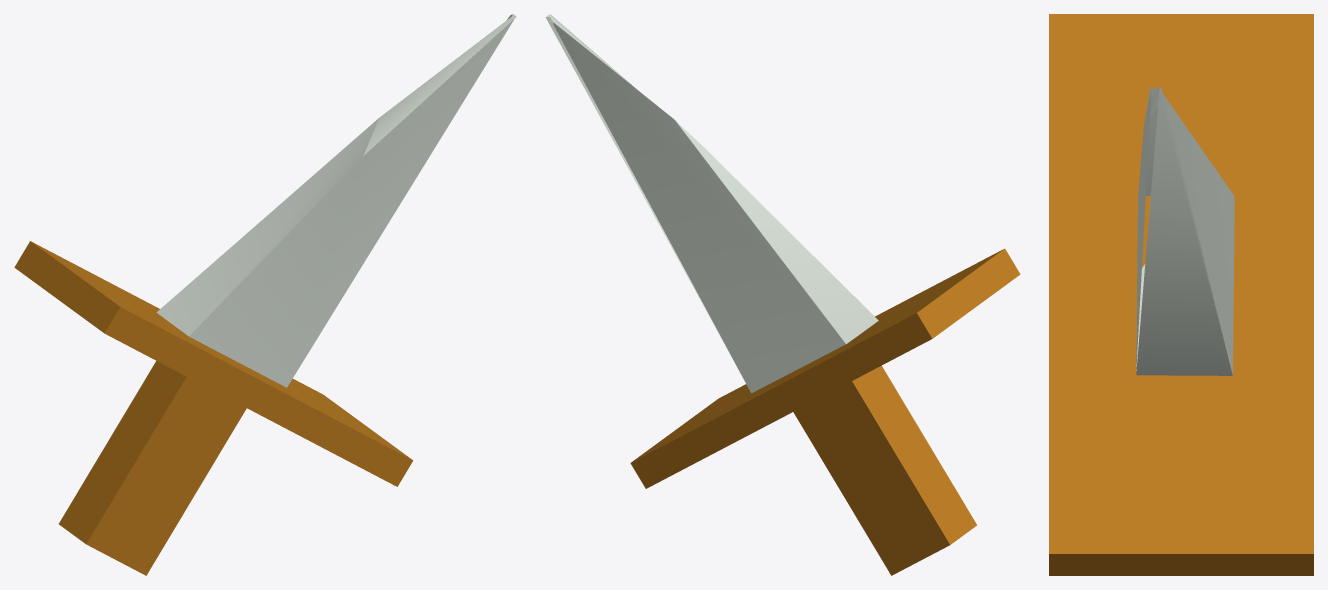
Rendered from Iron Sword.glb.
3 views of the same model, side by side, from view 1: azimuth 30°, elevation 25°; view 2: azimuth 150°, elevation 25°; view 3: azimuth 270°, elevation 25° (orthographic). The views are drawn at different scales.
Visible parts, largest first — view 1: Cube001_1, Cube001; view 2: Cube001_1, Cube001; view 3: Cube001_1, Cube001.
Boxes of the visible parts, left/top/right/bottom form: Cube001_1: left=14, top=241, right=413, bottom=575; Cube001: left=156, top=14, right=516, bottom=387; Cube001_1: left=630, top=248, right=1020, bottom=575; Cube001: left=545, top=14, right=878, bottom=393; Cube001_1: left=1049, top=14, right=1313, bottom=575; Cube001: left=1136, top=86, right=1234, bottom=375.
Bounding box in the file's own units: 7.39 × 7.35 × 2.58.
